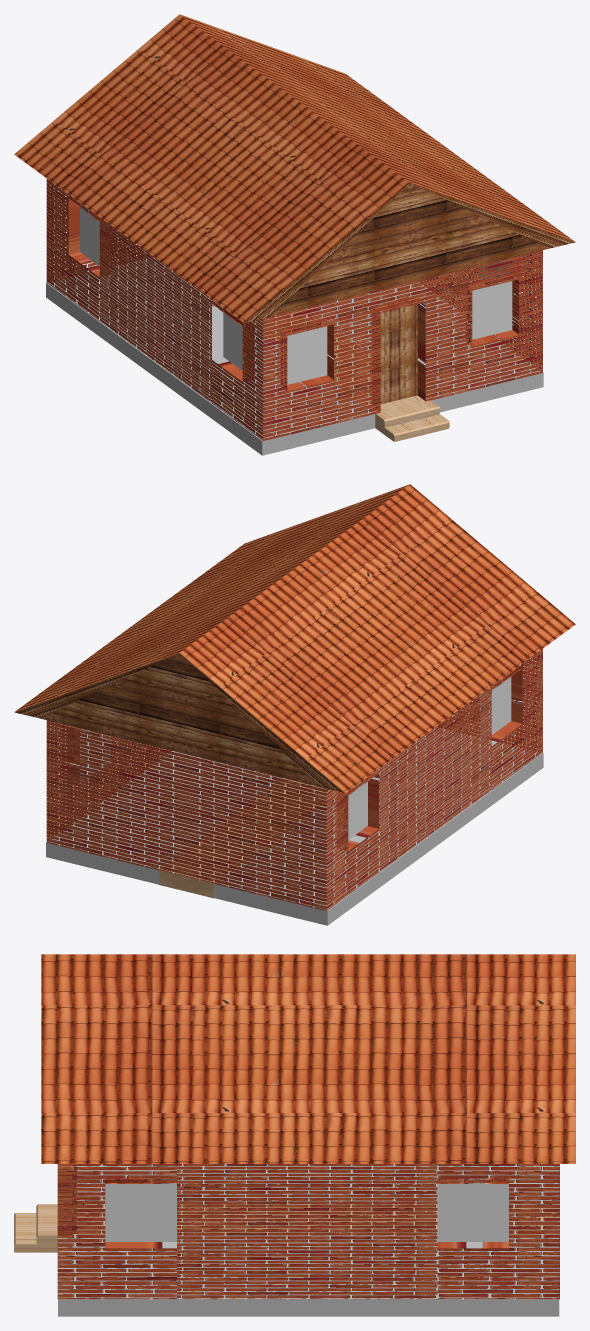
The model's file is 3Home.fbx.
3 views of the same model, one above another, from view 1: azimuth 30°, elevation 25°; view 2: azimuth 150°, elevation 25°; view 3: azimuth 270°, elevation 25° (orthographic). The views are drawn at different scales.
Visible parts, largest first — view 1: Cube.004; view 2: Cube.004; view 3: Cube.004.
Boxes of the visible parts, x1=… form: Cube.004: x1=14, y1=14, x2=575, y2=455; Cube.004: x1=14, y1=484, x2=575, y2=925; Cube.004: x1=14, y1=954, x2=575, y2=1316.
Bounding box in the file's own units: 329 × 231 × 416.
